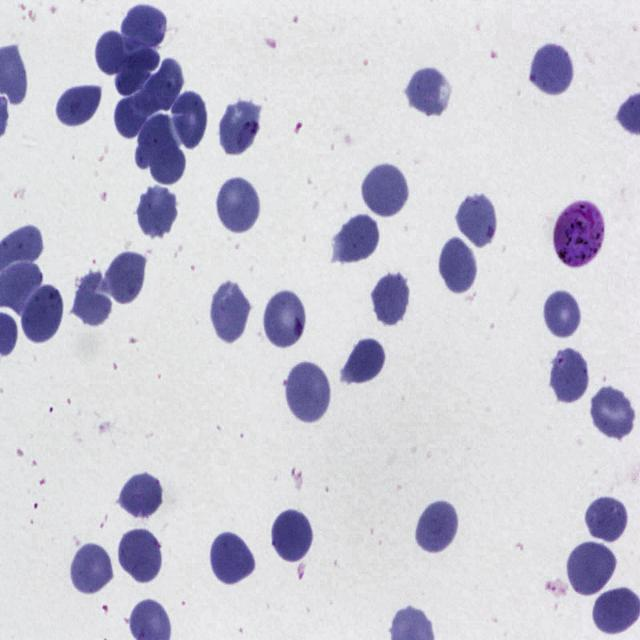gametocyte: (552, 199, 605, 270)
red blood cell: (138, 113, 186, 187), (284, 358, 332, 428), (131, 56, 184, 118), (566, 540, 618, 598), (209, 276, 252, 346), (215, 174, 262, 237), (360, 160, 410, 219), (19, 282, 65, 346), (94, 30, 158, 76), (208, 528, 258, 586), (261, 287, 307, 350), (116, 526, 164, 585), (589, 382, 636, 442), (403, 62, 452, 119), (70, 272, 119, 329), (528, 39, 575, 98), (217, 98, 263, 158), (548, 344, 592, 406), (454, 188, 498, 250), (331, 212, 381, 266), (414, 498, 460, 556), (102, 248, 148, 306), (270, 506, 315, 565), (52, 80, 105, 130), (339, 336, 388, 389), (438, 234, 479, 297), (168, 88, 209, 151), (69, 541, 115, 597), (370, 267, 412, 328), (120, 3, 168, 56), (135, 183, 179, 240), (116, 469, 164, 521), (584, 493, 630, 544), (543, 286, 583, 341), (113, 94, 157, 140)
